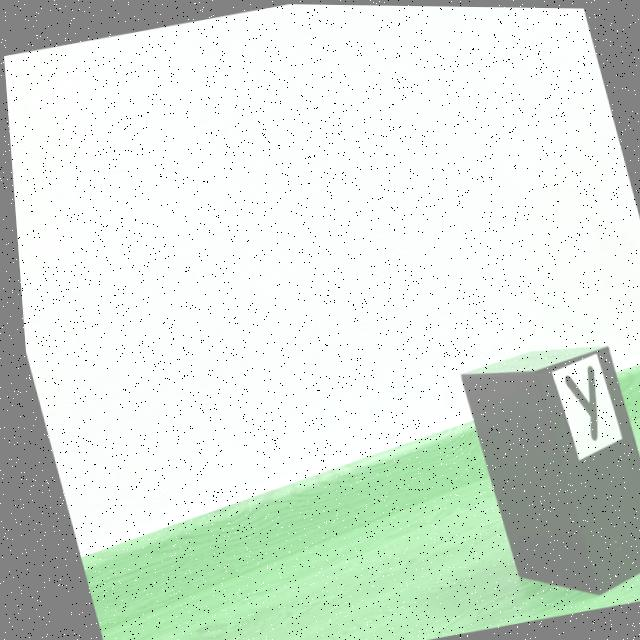Y: (559, 364, 592, 439)
